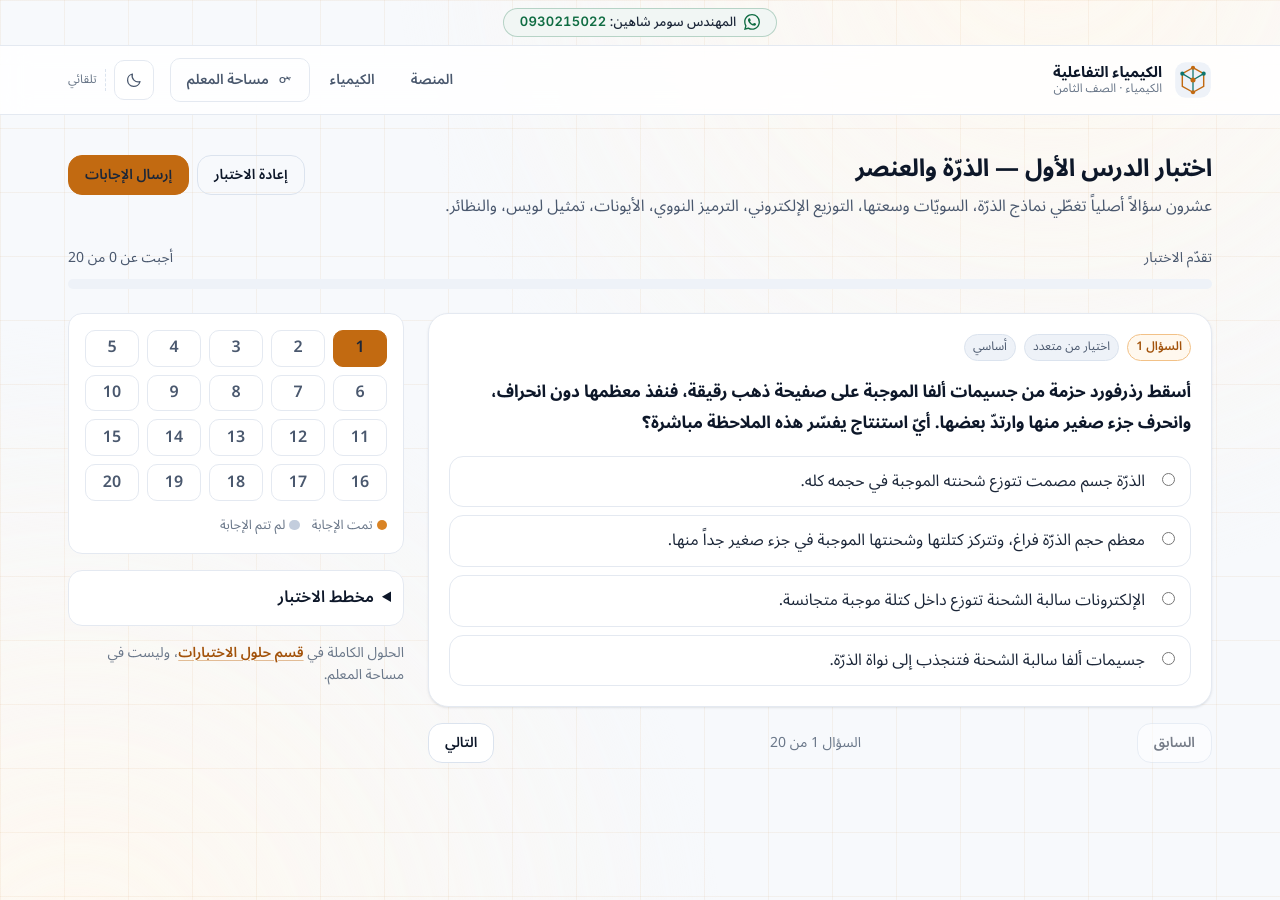
Test: Attempt › warns about unanswered questions and only submits when asked
Expected: the heading "اختبار الدرس الأول — الذرّة والعنصر" is shown, [856,143,1212,194]
Step 1. Click the button "إرسال الإجابات" → coordinates (128, 175), box [68,155,189,195]
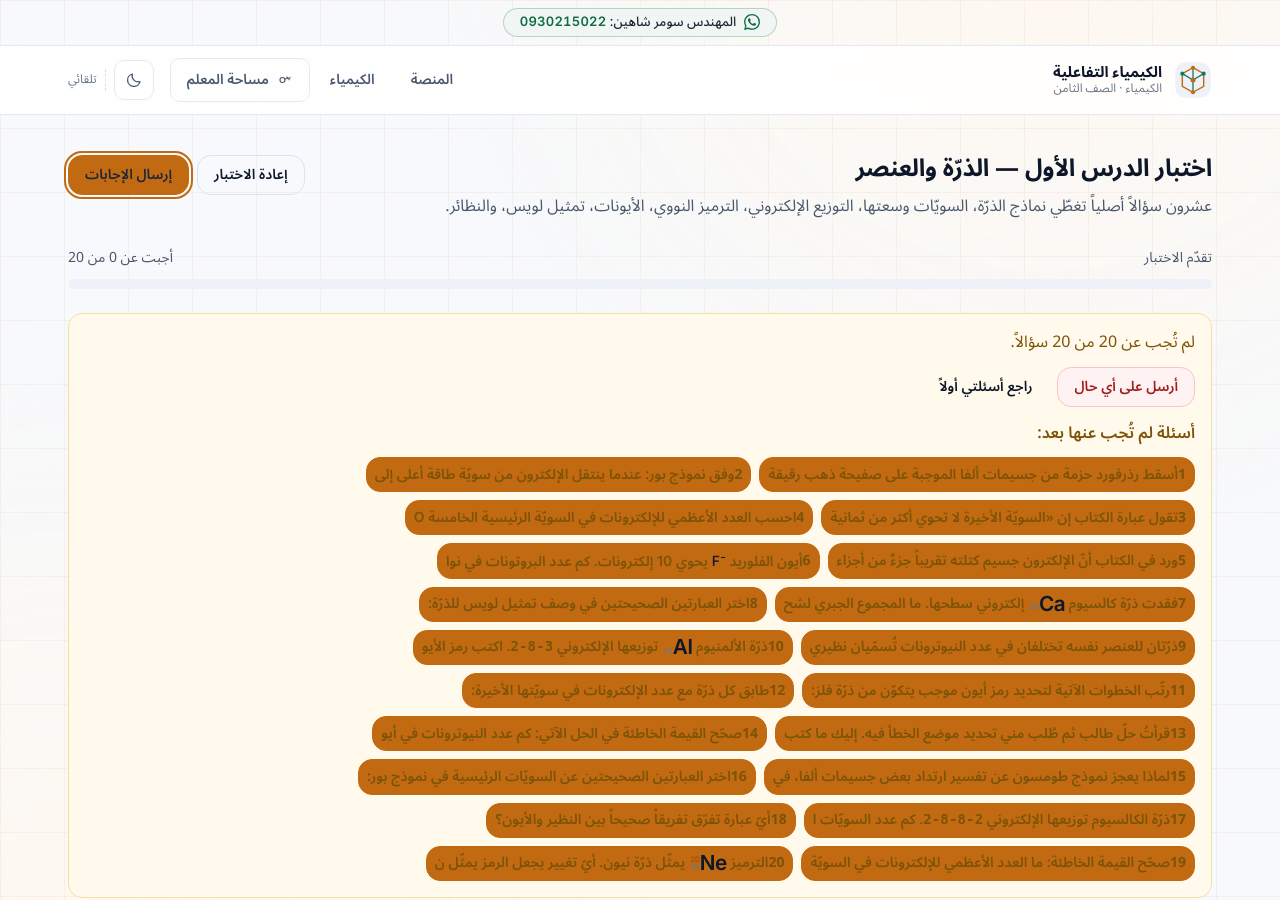
Now the message shows "لم تُجب عن 20 من 20 سؤالاً", box [68,313,1212,898]
Step 2. Click the button "راجع أسئلتي أولاً" → coordinates (986, 387), box [922,367,1050,407]
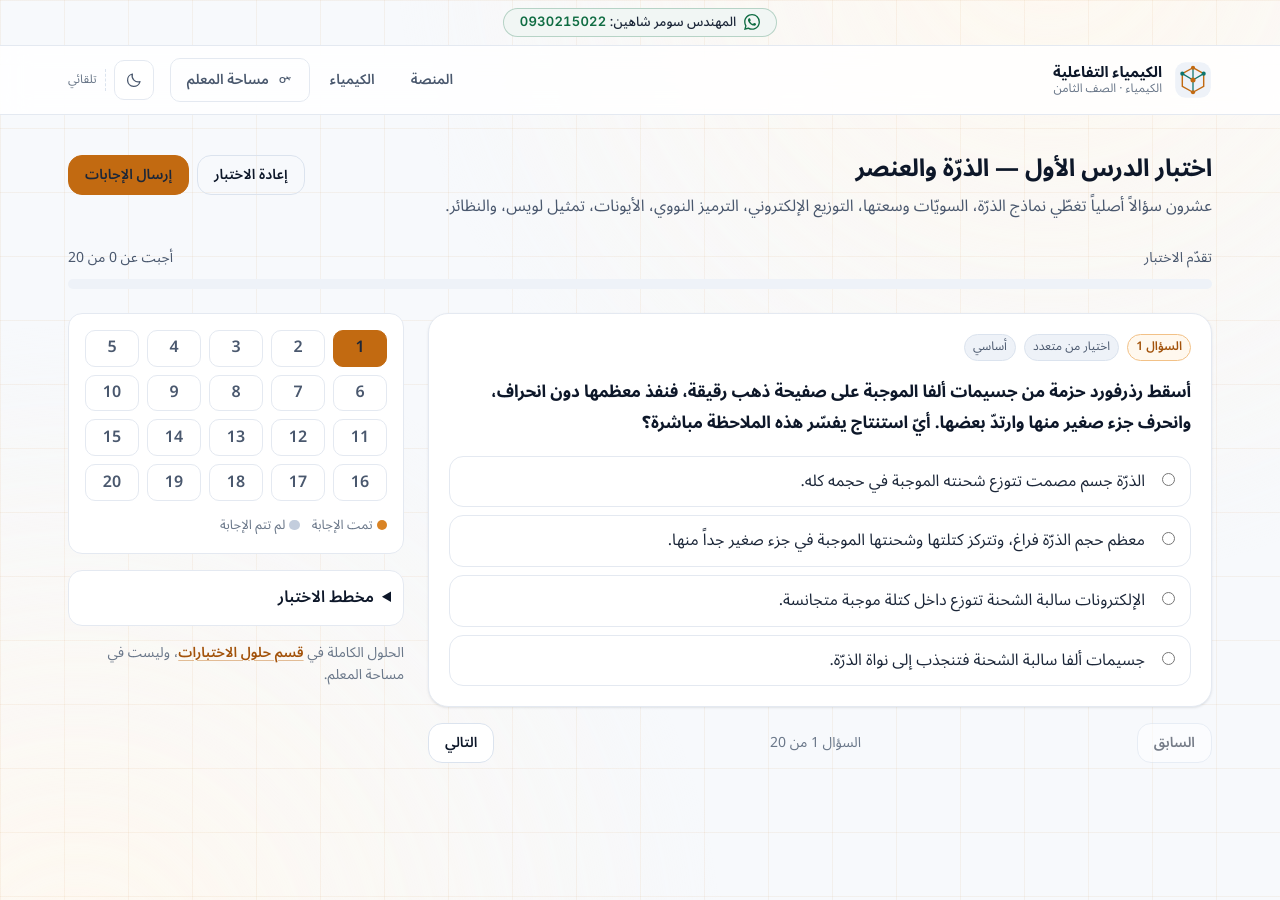
Now the message is gone
